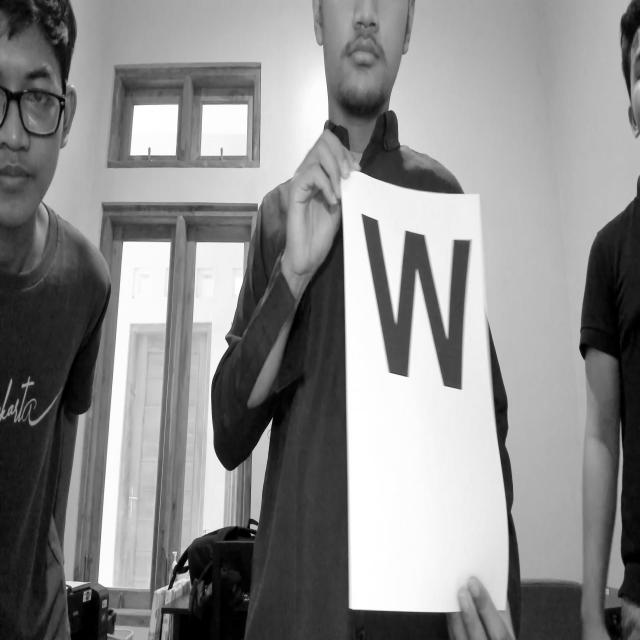w: (355, 200, 475, 408)
